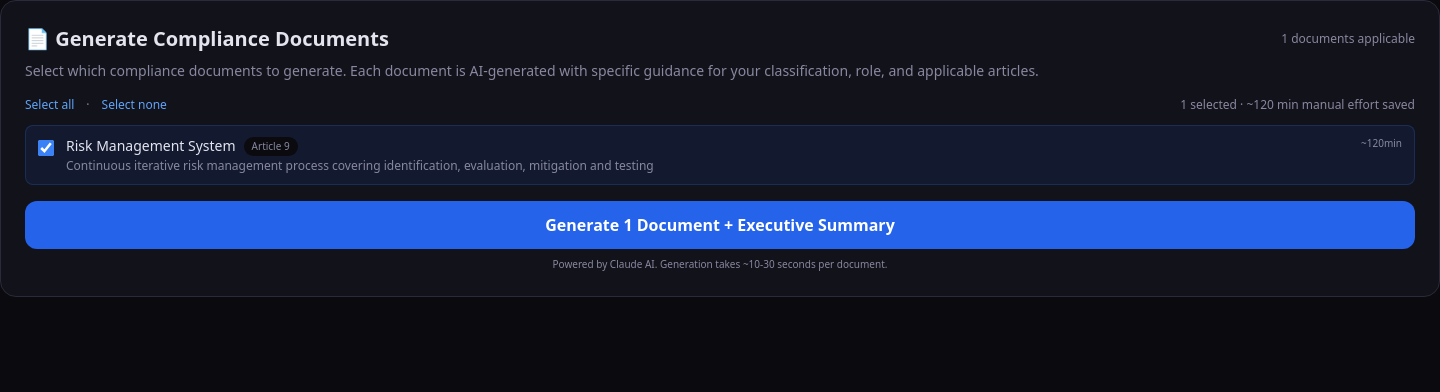
Scenario: L6-DG-X: Error state › DG-X08: partial docs before error shows recovery message
Click the button "Generate 1 Document + Executive Summary". click: (720, 225)
box: [25,201,1415,249]
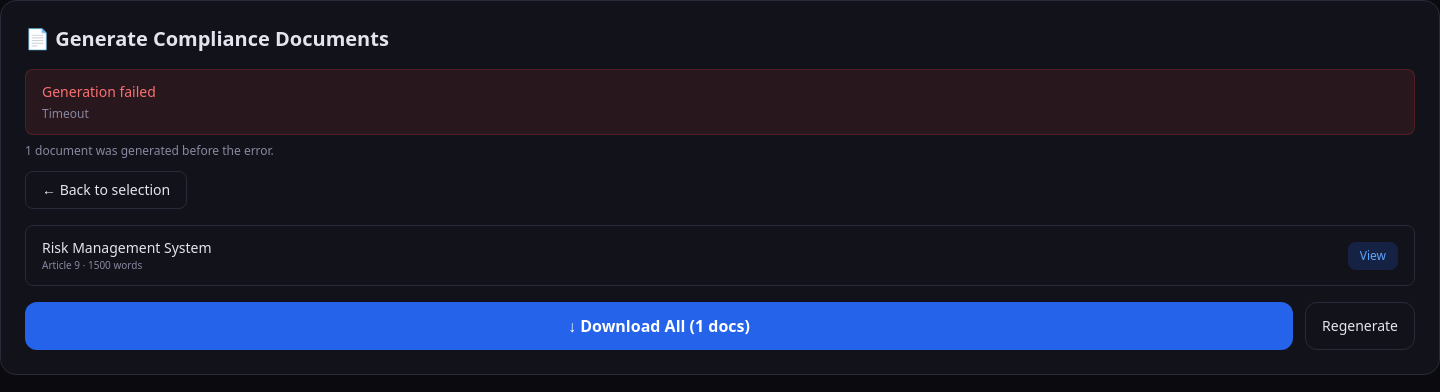
Check: the text "Generation failed" is shown, box [42,82,156,101]
Check: the text "1 document was generated before the error." is shown, box [25,142,274,159]
